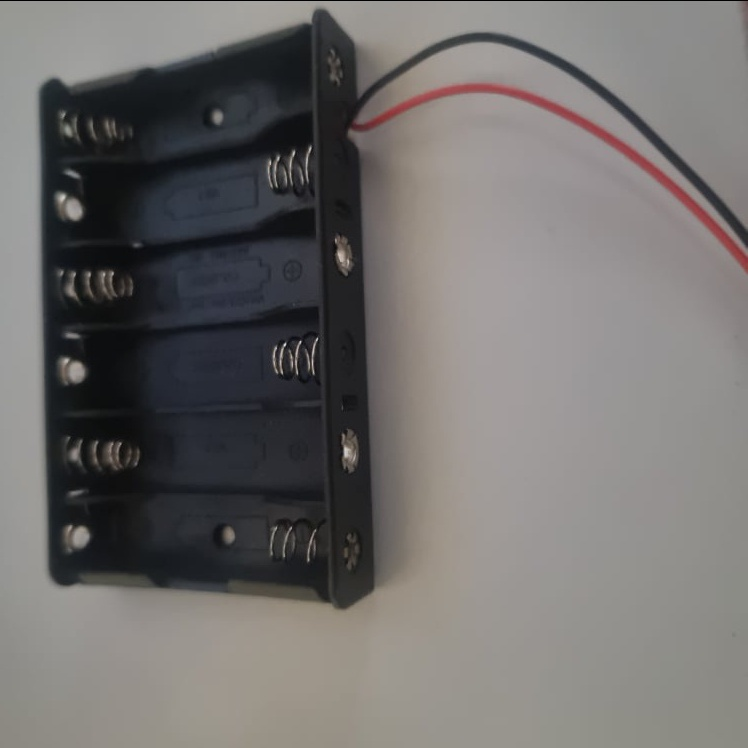BATTERY BOX: (35, 8, 376, 612)
